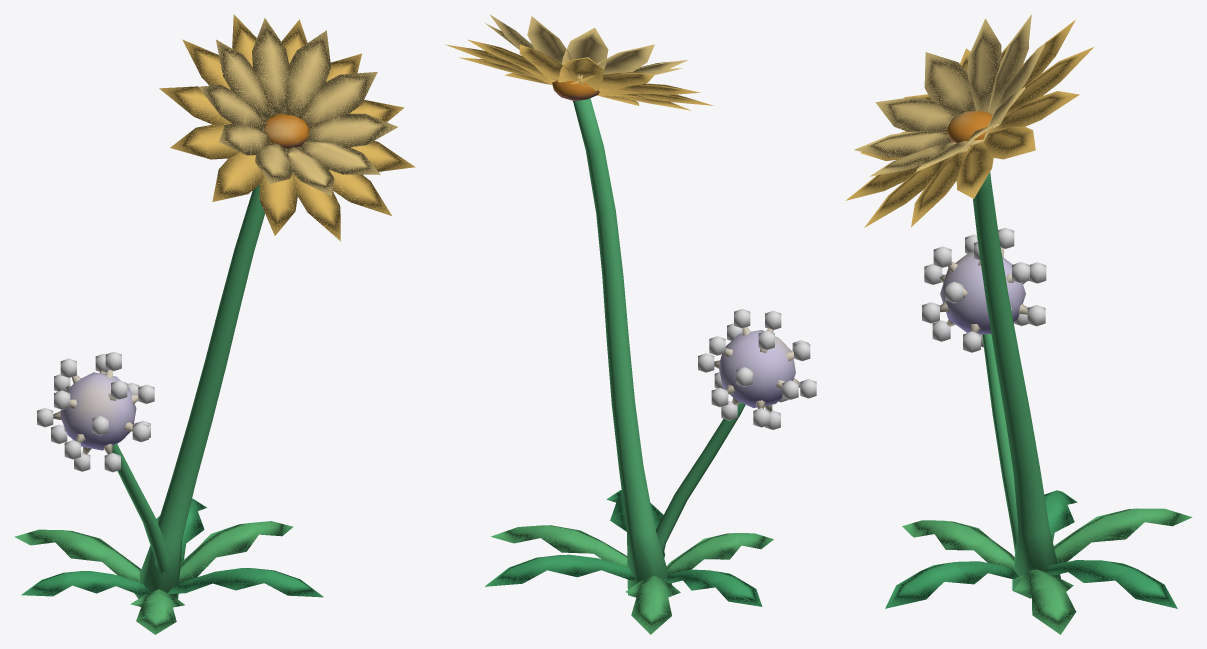
Rendered from verdant_tree_dandelion_c.glb.
3 renders of one model, left to right at view 1: azimuth 30°, elevation 25°; view 2: azimuth 150°, elevation 25°; view 3: azimuth 270°, elevation 25°, orthographic. The views are drawn at different scales.
Visible parts, largest first — view 1: verdant_tree_dandelion_c; view 2: verdant_tree_dandelion_c; view 3: verdant_tree_dandelion_c.
Part boxes in pixels (x1,y1,x2,y2): verdant_tree_dandelion_c: [14, 14, 415, 634]; verdant_tree_dandelion_c: [445, 14, 816, 634]; verdant_tree_dandelion_c: [845, 14, 1192, 634].
Size of the model in its own units: 4.98 by 7.44 by 3.85.
